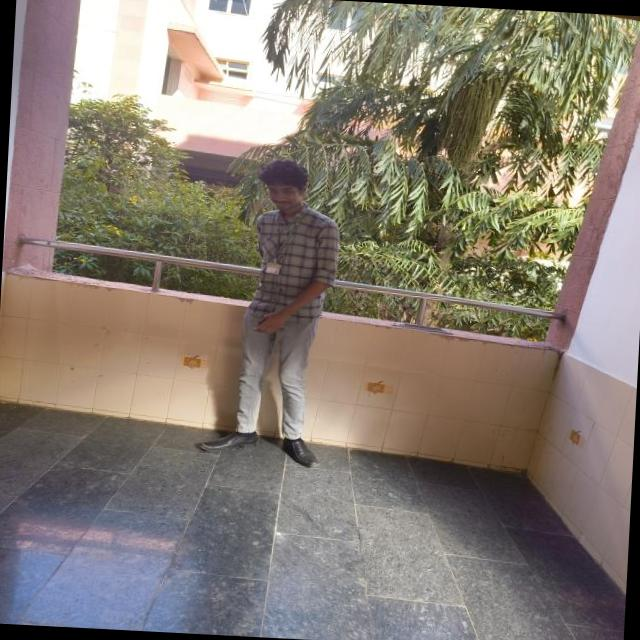id_card: (266, 218, 300, 282)
